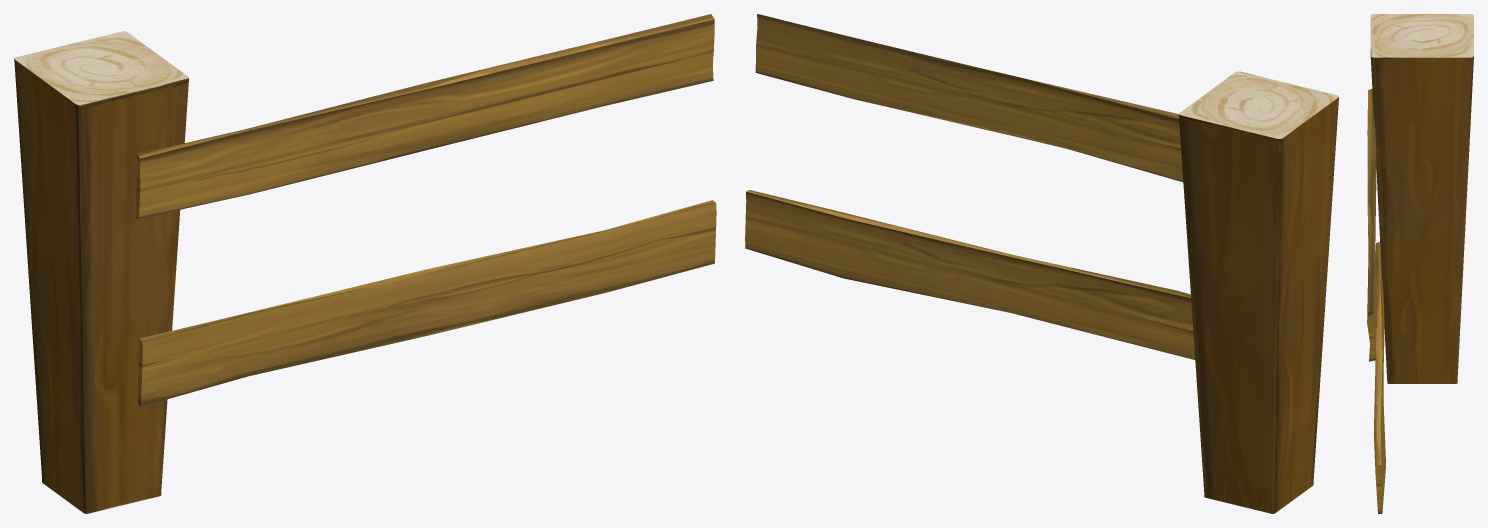
Rendered from Corral.fbx.
3 renders of one model, left to right at view 1: azimuth 30°, elevation 25°; view 2: azimuth 150°, elevation 25°; view 3: azimuth 270°, elevation 25°, orthographic. The views are drawn at different scales.
Parts seen in each view (by area): view 1: pCube6, pasted__pasted__pCube2, pasted__pCube1; view 2: pCube6, pasted__pCube1, pasted__pasted__pCube2; view 3: pCube6, pasted__pCube1, pasted__pasted__pCube2.
Part boxes in pixels (x1=…): pCube6: x1=14, y1=31, x2=188, y2=513; pasted__pasted__pCube2: x1=135, y1=14, x2=714, y2=218; pasted__pCube1: x1=137, y1=200, x2=716, y2=406; pCube6: x1=1179, y1=71, x2=1338, y2=513; pasted__pCube1: x1=745, y1=190, x2=1195, y2=359; pasted__pasted__pCube2: x1=755, y1=14, x2=1183, y2=181; pCube6: x1=1370, y1=14, x2=1473, y2=383; pasted__pCube1: x1=1373, y1=242, x2=1385, y2=513; pasted__pasted__pCube2: x1=1367, y1=89, x2=1376, y2=361.
Size of the model in its own units: 511 by 320 by 92.92.
Materials: 2 (2 with a texture image).
